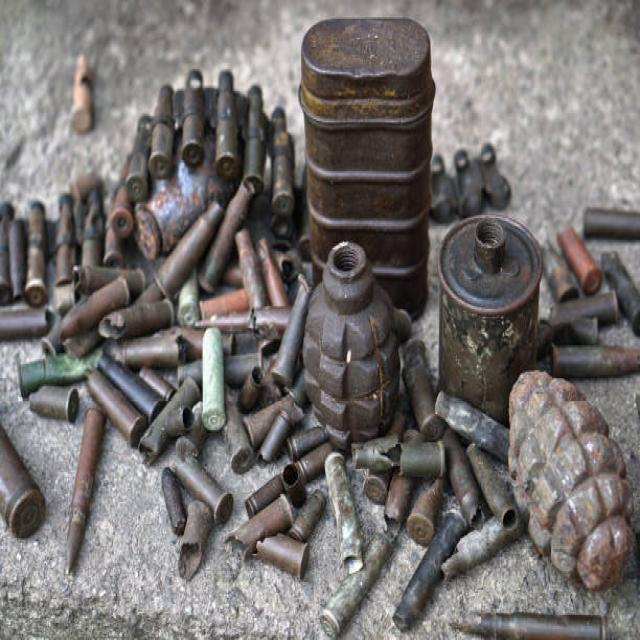grenade: (507, 367, 637, 601), (301, 240, 405, 450)
